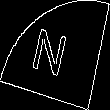N_S: (33, 25, 77, 85)
